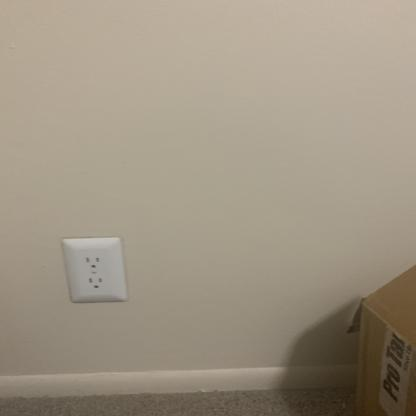OUTLET: (59, 238, 131, 302)
